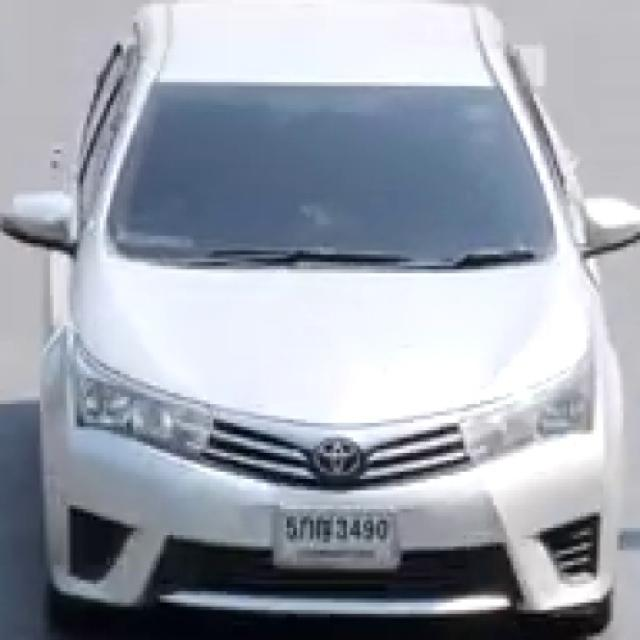plate: (273, 505, 402, 570)
